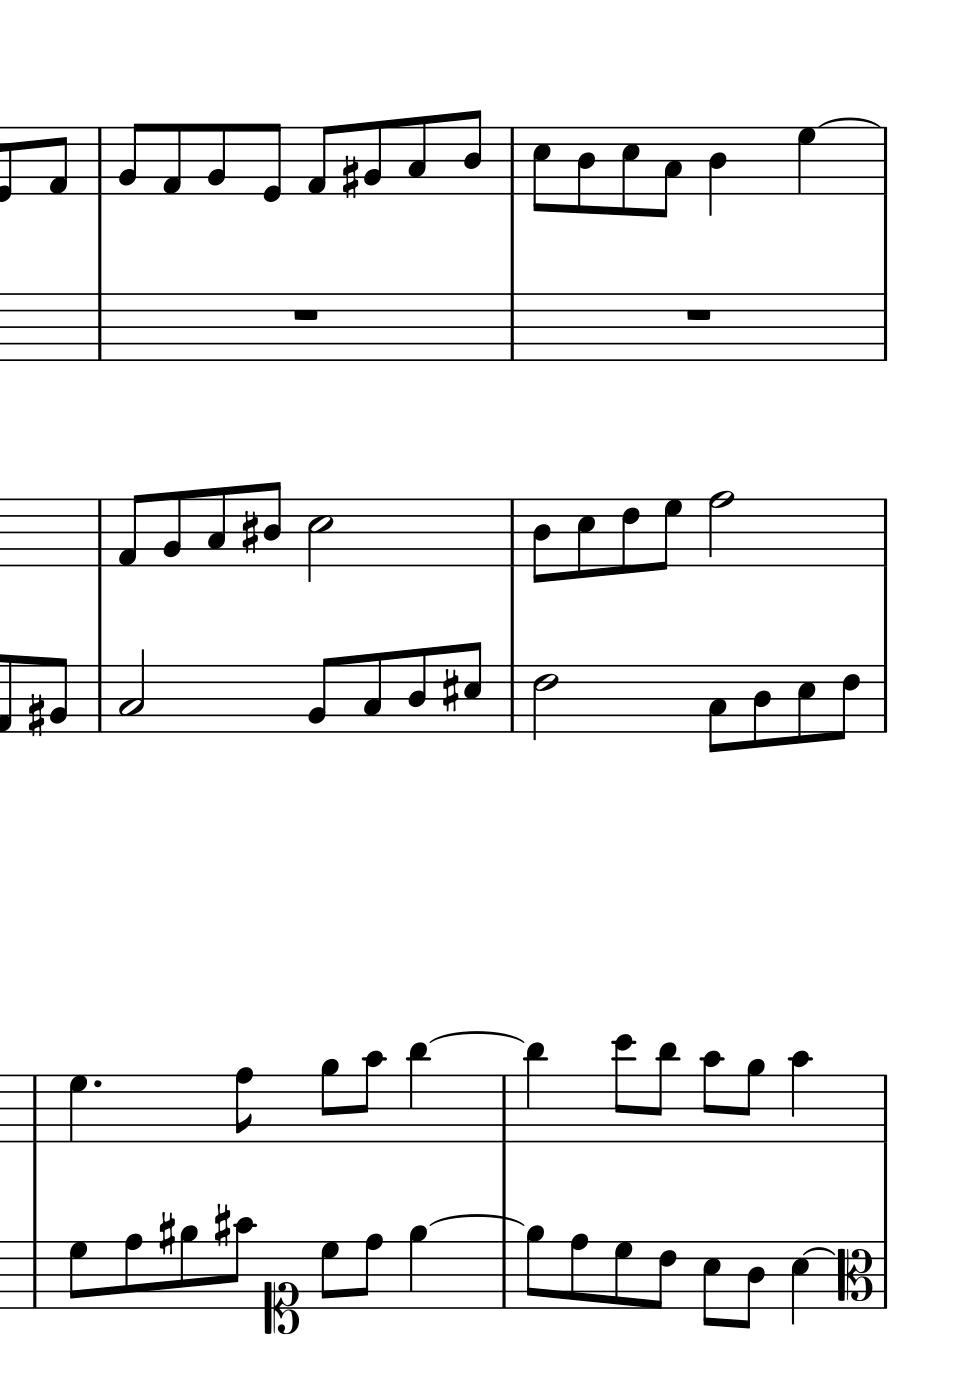2_2: (118, 648, 145, 730)
2_5: (305, 496, 333, 583)
2_6: (531, 664, 557, 741)
2_8: (706, 489, 733, 568)
4_10: (788, 1049, 811, 1144)
4_11: (523, 1042, 545, 1144)
4_4: (706, 126, 727, 218)
4_5: (788, 1240, 810, 1326)
4_7: (67, 1074, 88, 1145), (795, 126, 817, 196)
4_9: (407, 1224, 428, 1310)
8_0: (259, 122, 284, 205)
8_1: (116, 492, 145, 569), (304, 123, 334, 196), (159, 122, 183, 197), (46, 125, 69, 197), (1, 652, 15, 734)
8_10: (227, 1215, 258, 1308), (356, 1049, 384, 1143), (700, 1049, 723, 1143)
8_11: (650, 1039, 678, 1143), (406, 1040, 428, 1145)
8_12: (612, 1030, 636, 1144)
8_2: (116, 122, 145, 196), (307, 656, 334, 735), (159, 490, 182, 568), (204, 122, 227, 196), (361, 119, 382, 196), (48, 656, 69, 734)
8_3: (657, 125, 682, 220), (204, 486, 228, 568), (360, 651, 383, 734), (405, 115, 427, 196), (706, 664, 727, 754)
8_4: (740, 1238, 765, 1330), (406, 646, 428, 734), (575, 125, 596, 216), (261, 480, 282, 566), (751, 664, 772, 750), (462, 109, 483, 197), (531, 497, 552, 584)
8_5: (461, 641, 483, 734), (530, 125, 552, 214), (619, 125, 640, 218), (701, 1240, 721, 1328), (575, 497, 595, 580), (795, 663, 816, 744)
8_6: (834, 664, 861, 742), (650, 1240, 677, 1311), (619, 497, 640, 575)
8_7: (654, 497, 682, 571), (67, 1240, 88, 1310), (612, 1240, 633, 1310), (319, 1240, 340, 1309)
8_8: (354, 1232, 383, 1310), (122, 1231, 144, 1310), (568, 1232, 590, 1311), (233, 1065, 253, 1144)
8_9: (738, 1057, 765, 1143), (523, 1224, 545, 1310), (179, 1224, 200, 1309), (319, 1057, 339, 1143)
Cclef: (835, 1240, 874, 1309)
Rests1: (290, 305, 321, 323), (682, 305, 714, 323)
Sharp: (154, 1208, 178, 1256), (340, 154, 360, 201), (240, 509, 259, 556), (440, 667, 459, 714), (212, 1201, 231, 1248), (27, 692, 45, 740)
Single_barline: (494, 1075, 514, 1142), (874, 293, 893, 361), (495, 1240, 514, 1308), (876, 126, 895, 193), (503, 128, 521, 195), (92, 126, 109, 196), (876, 1241, 893, 1308), (503, 292, 519, 362), (877, 498, 893, 566), (92, 501, 108, 567), (504, 501, 520, 567), (504, 665, 520, 732), (876, 1075, 892, 1142), (27, 1241, 42, 1308), (92, 666, 108, 732), (27, 1075, 42, 1141), (92, 292, 107, 361), (877, 665, 892, 732)
Slur: (430, 1029, 523, 1043), (818, 116, 882, 128), (801, 1247, 836, 1257)
Soprano_Cclef: (262, 1241, 299, 1336)
dot: (91, 1077, 103, 1091)
